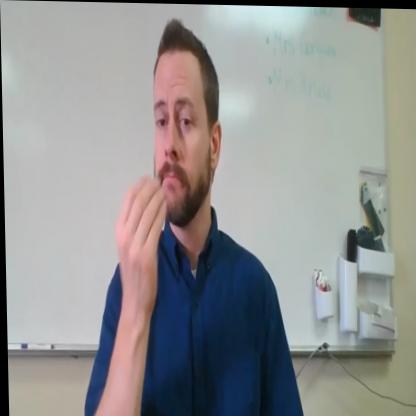Food: (105, 14, 265, 342)
